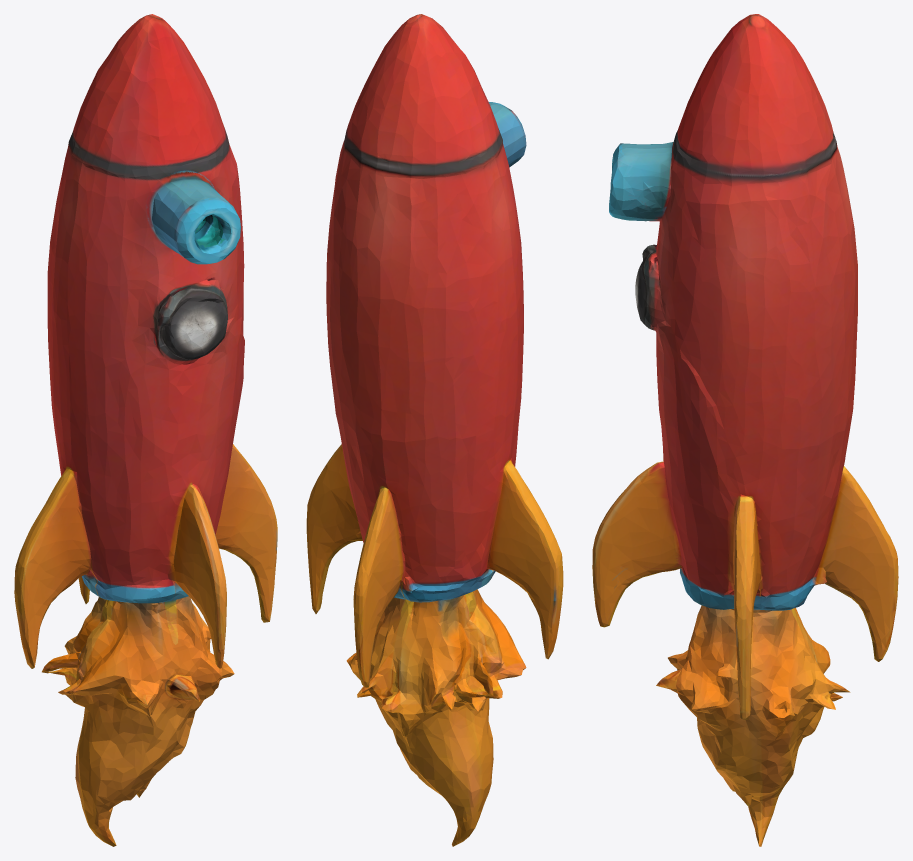
The model's file is rocket.fbx.
3 views of the same model, side by side, from view 1: azimuth 30°, elevation 25°; view 2: azimuth 150°, elevation 25°; view 3: azimuth 270°, elevation 25° (orthographic). The views are drawn at different scales.
Parts seen in each view (by area): view 1: temp; view 2: temp; view 3: temp.
Boxes of the visible parts, x1,y1,x2,y2 form: temp: [14, 14, 277, 846]; temp: [306, 14, 563, 846]; temp: [592, 14, 898, 846].
Size of the model in its own units: 64.68 by 199 by 64.94.
Materials: 1 (1 with a texture image).
